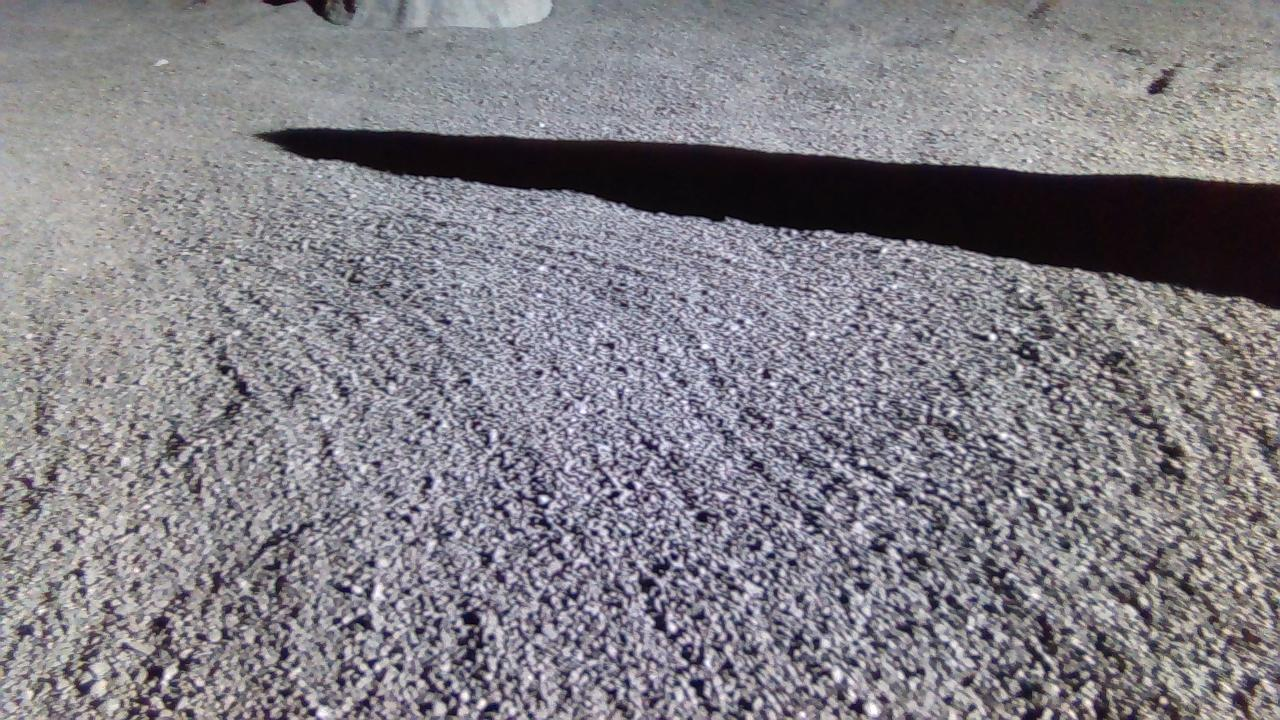rock: (324, 0, 552, 28)
